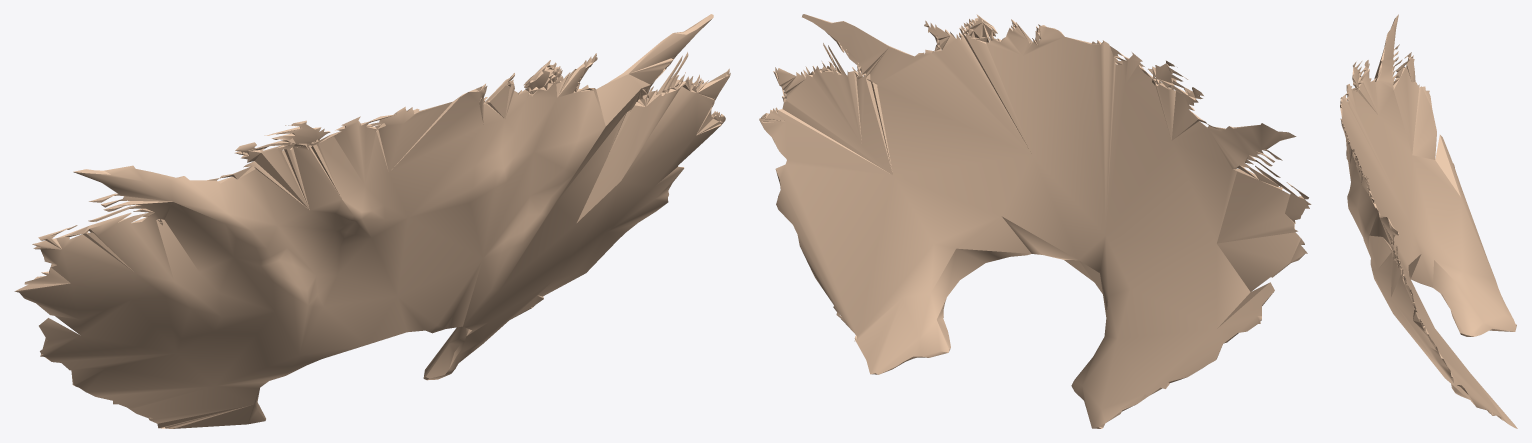
File: skin.abdomen.glb
3 renders of one model, left to right at view 1: azimuth 30°, elevation 25°; view 2: azimuth 150°, elevation 25°; view 3: azimuth 270°, elevation 25°, orthographic. The views are drawn at different scales.
Parts seen in each view (by area): view 1: pubic_hair; view 2: pubic_hair; view 3: pubic_hair.
Boxes of the visible parts, box(x1,y1,x2,y2) form: pubic_hair: box(14, 14, 730, 428); pubic_hair: box(759, 14, 1311, 428); pubic_hair: box(1340, 14, 1517, 428).
Size of the model in its own units: 0.1218 by 0.0636 by 0.0374.
